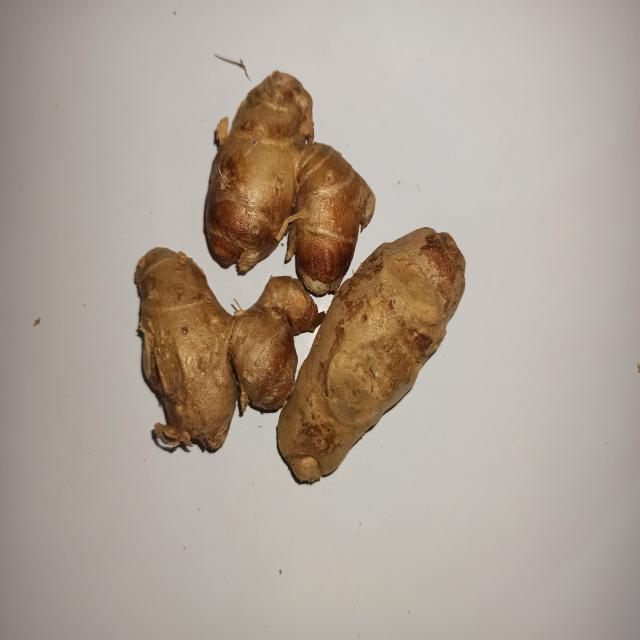ginger: (289, 232, 460, 464), (130, 242, 302, 449), (207, 71, 347, 283)
